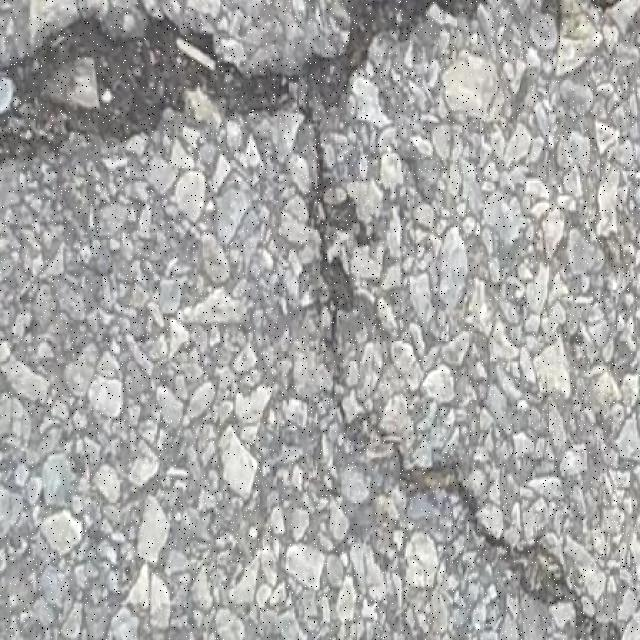Crack: (1, 0, 636, 639)
